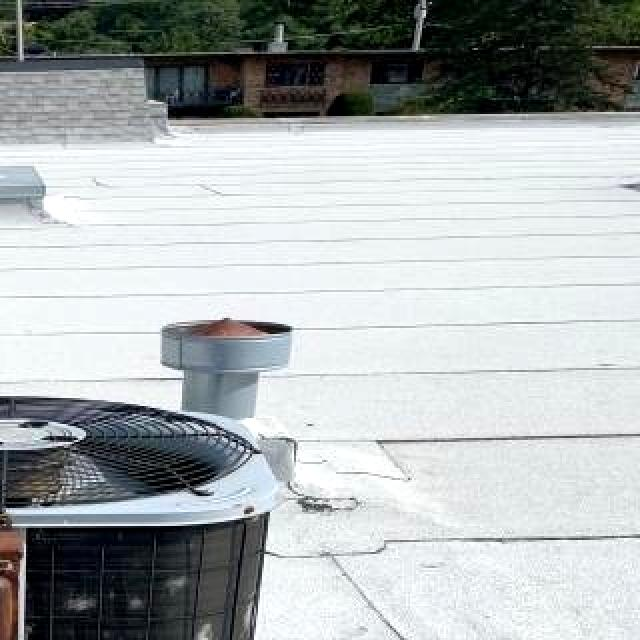GRAVITY-VENT: (157, 311, 297, 428)
SPLIT-SYSTEM: (0, 390, 284, 640)
